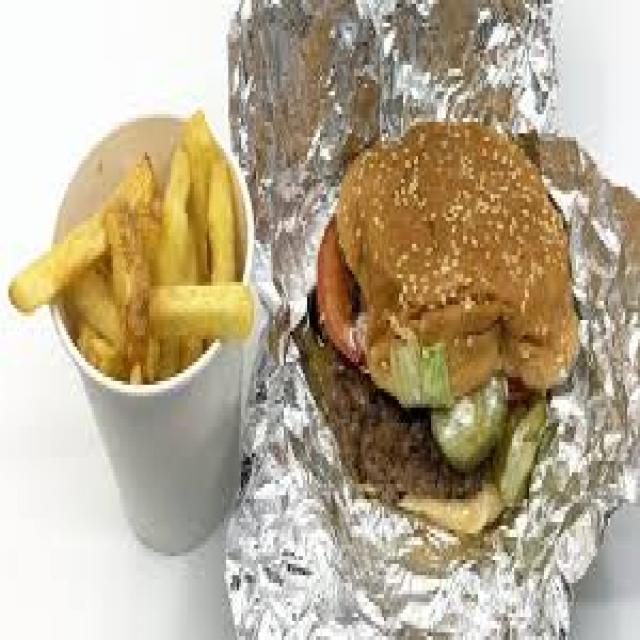Burger: (290, 111, 578, 548)
French Fries: (2, 107, 258, 423)
